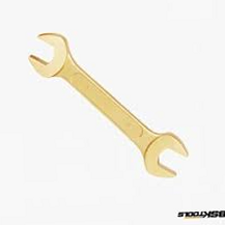Wrench: (24, 24, 192, 180)
